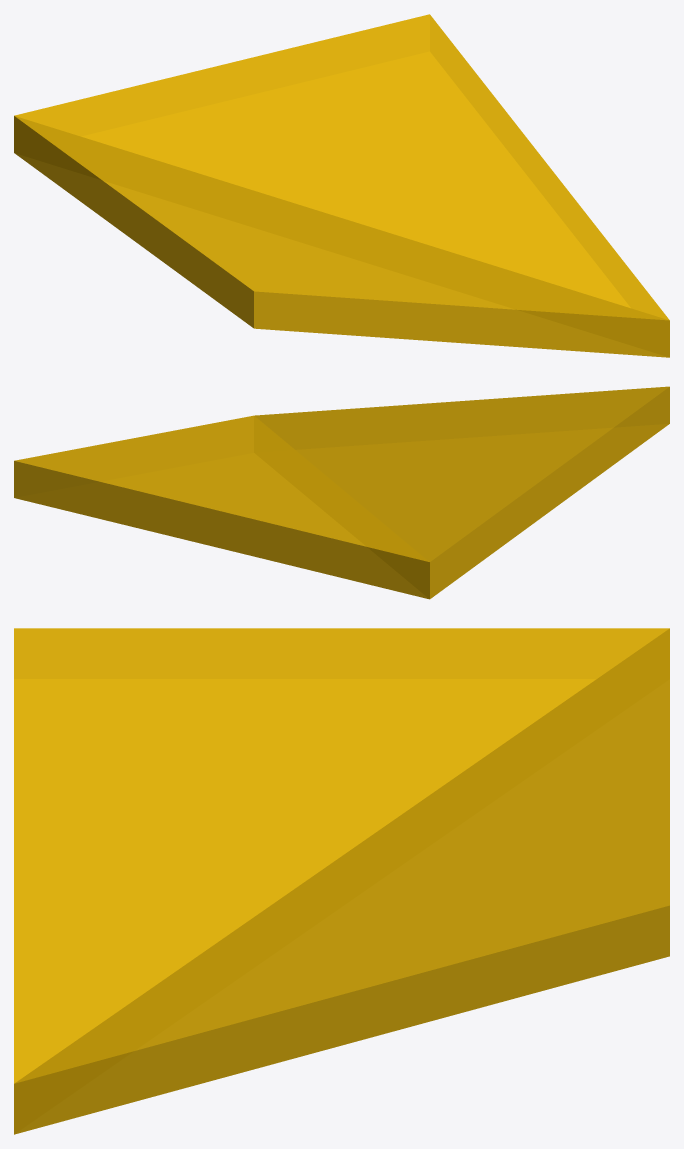
File: SM_Bld_Roof_Corner_In_01_Collision.fbx
3 views of the same model, one above another, from view 1: azimuth 30°, elevation 25°; view 2: azimuth 150°, elevation 25°; view 3: azimuth 270°, elevation 25° (orthographic). The views are drawn at different scales.
Visible parts, largest first — view 1: SM_Bld_Roof_Corner_In_01_Collision; view 2: SM_Bld_Roof_Corner_In_01_Collision; view 3: SM_Bld_Roof_Corner_In_01_Collision.
Boxes of the visible parts, x1,y1,x2,y2 form: SM_Bld_Roof_Corner_In_01_Collision: (14,14,669,357); SM_Bld_Roof_Corner_In_01_Collision: (14,386,669,599); SM_Bld_Roof_Corner_In_01_Collision: (14,628,669,1134).
Size of the model in its own units: 250 by 96.38 by 250.
